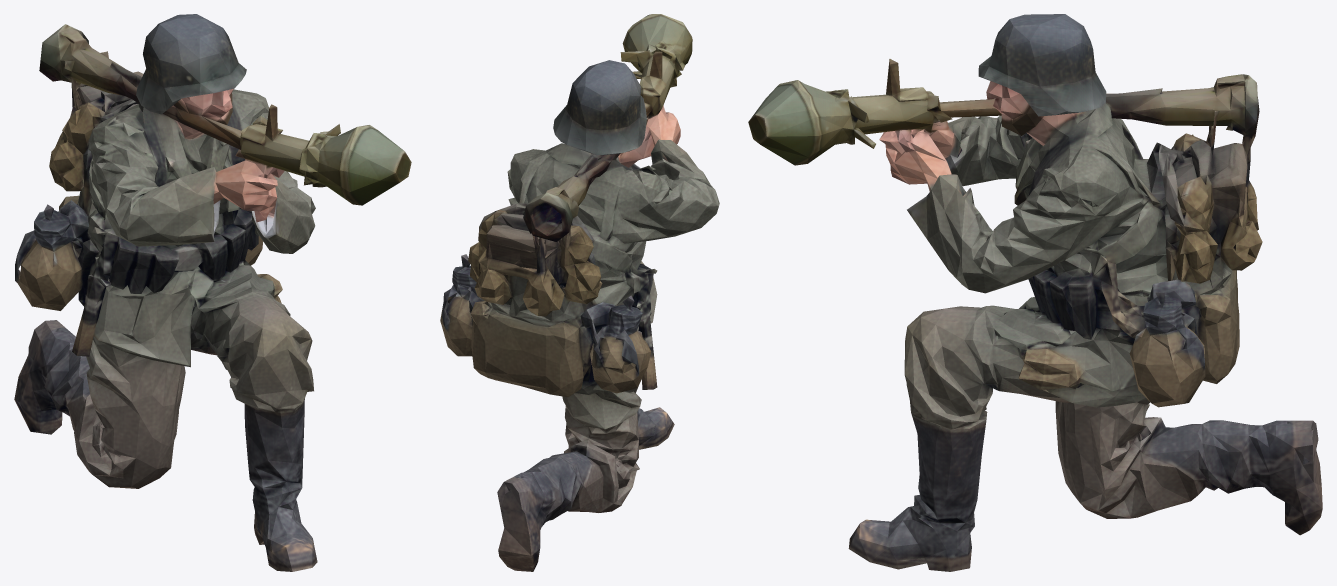
Rendered from inf_faust.obj.
3 renders of one model, left to right at view 1: azimuth 30°, elevation 25°; view 2: azimuth 150°, elevation 25°; view 3: azimuth 270°, elevation 25°, orthographic. The views are drawn at different scales.
Visible parts, largest first — view 1: inf_faust; view 2: inf_faust; view 3: inf_faust.
Part boxes in pixels (bbox=[...]): inf_faust: bbox=[14, 14, 411, 571]; inf_faust: bbox=[440, 14, 719, 571]; inf_faust: bbox=[748, 14, 1322, 571].
Bounding box in the file's own units: 0.6705 × 1.35 × 1.34.
1 material, 1 textured.
